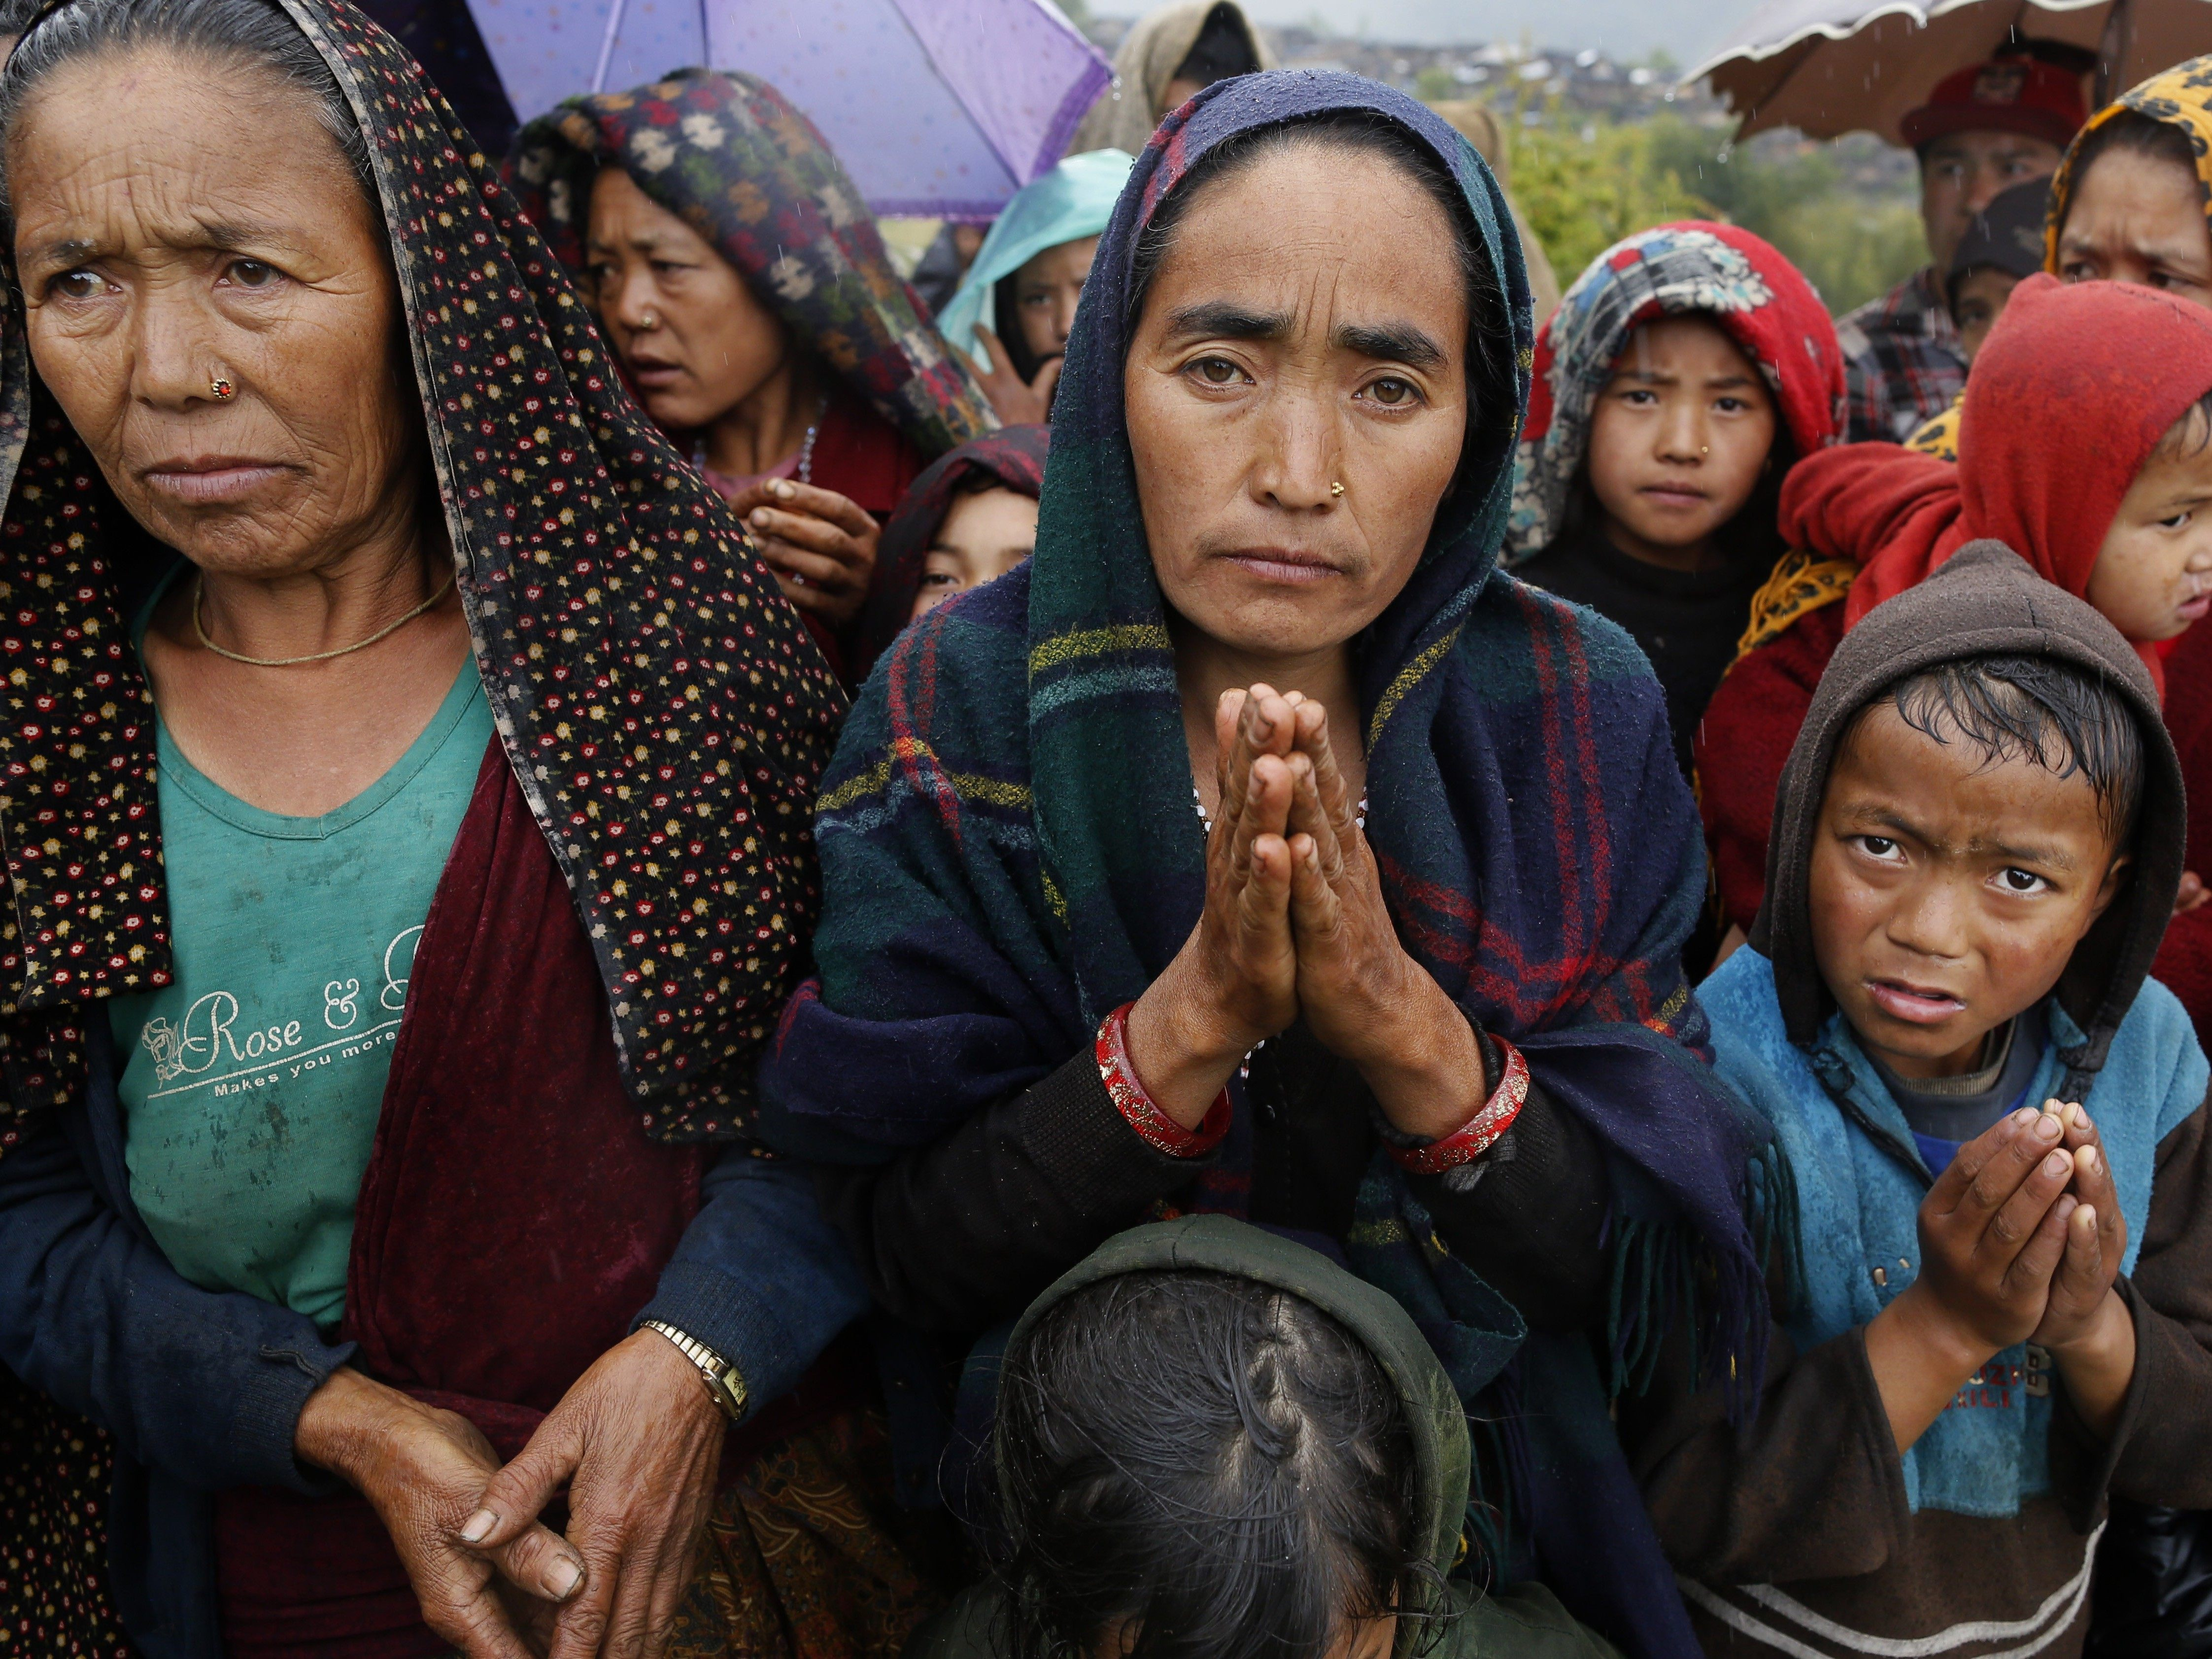human: (779, 65, 1739, 1618), (0, 0, 874, 1651), (1657, 524, 2212, 1659), (497, 46, 968, 579), (1518, 213, 1854, 622)
